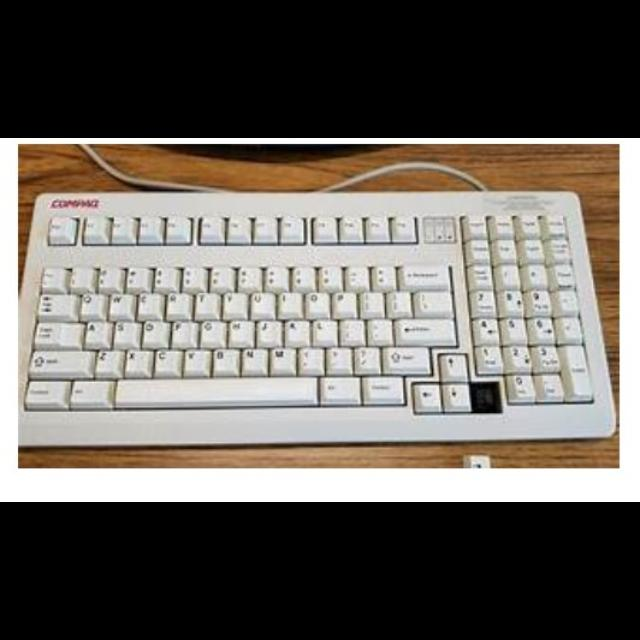Computer-Keyboard: (17, 191, 618, 447)
